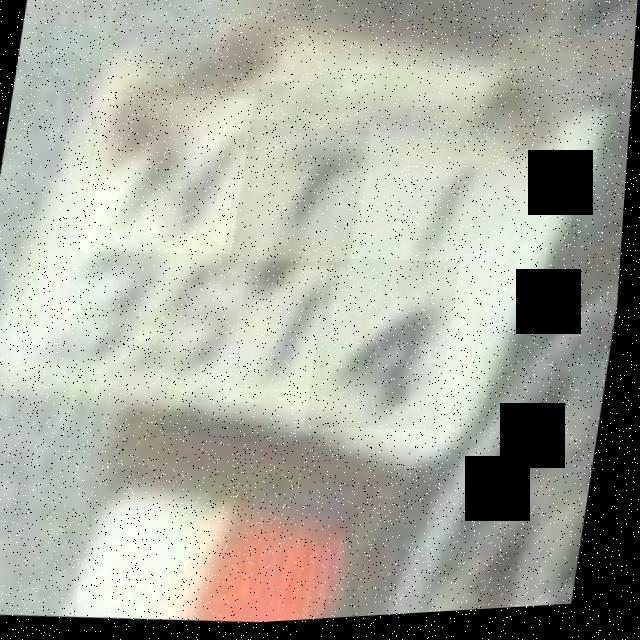1: (235, 259, 345, 399)
3: (20, 224, 174, 395)
4: (309, 256, 464, 441)
5: (132, 241, 267, 392)
N: (82, 88, 257, 264), (232, 124, 375, 276)
T: (224, 116, 373, 280)
